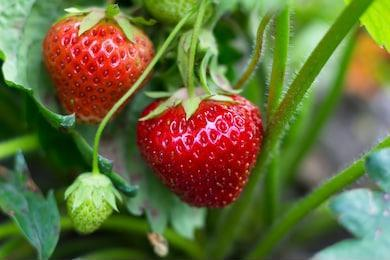Fresa: (129, 84, 271, 217), (38, 6, 162, 129)
